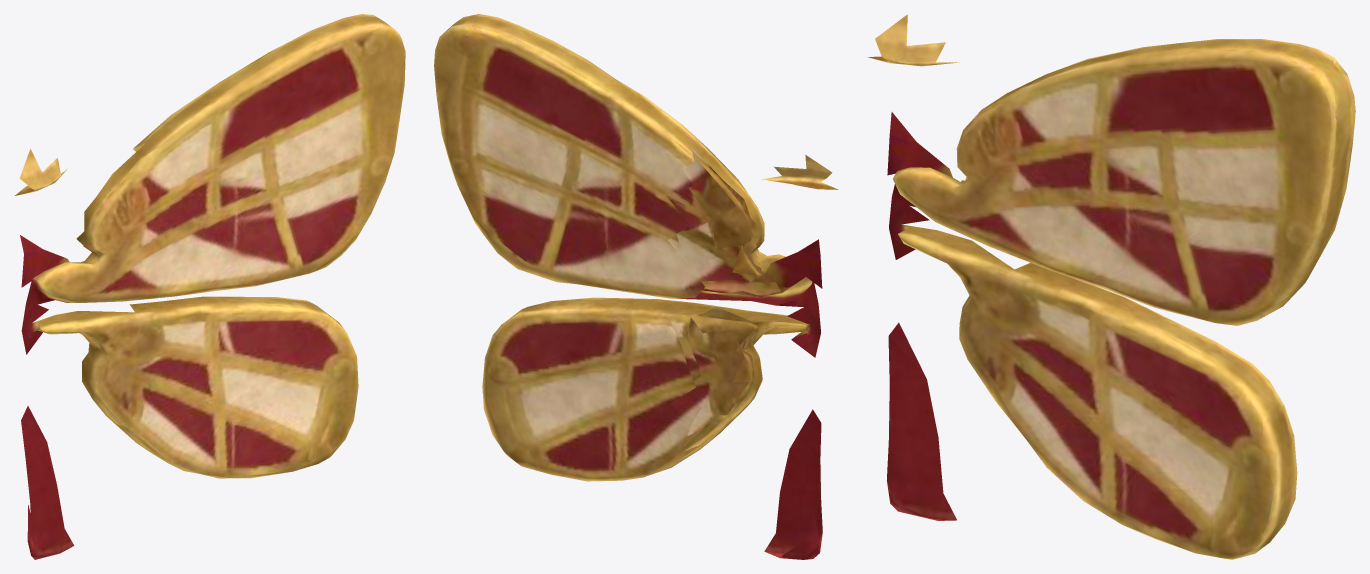
The model's file is doorman-right.glb.
The picture shows the model from 3 angles, left to right: view 1: azimuth 30°, elevation 25°; view 2: azimuth 150°, elevation 25°; view 3: azimuth 330°, elevation 25°; orthographic projection. The views are drawn at different scales.
Visible parts, largest first — view 1: Mesh_0.001; view 2: Mesh_0.001; view 3: Mesh_0.001.
Boxes of the visible parts, <box> form: Mesh_0.001: <box>15,14,405,559</box>; Mesh_0.001: <box>434,14,838,559</box>; Mesh_0.001: <box>868,14,1355,559</box>.
Size of the model in its own units: 0.8185 by 0.9274 by 0.093.
1 material, 1 textured.
